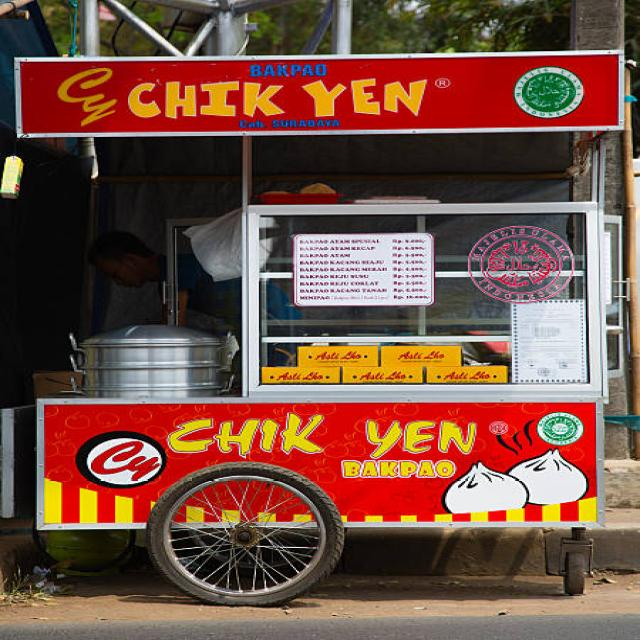Emperan: (4, 50, 631, 615)
